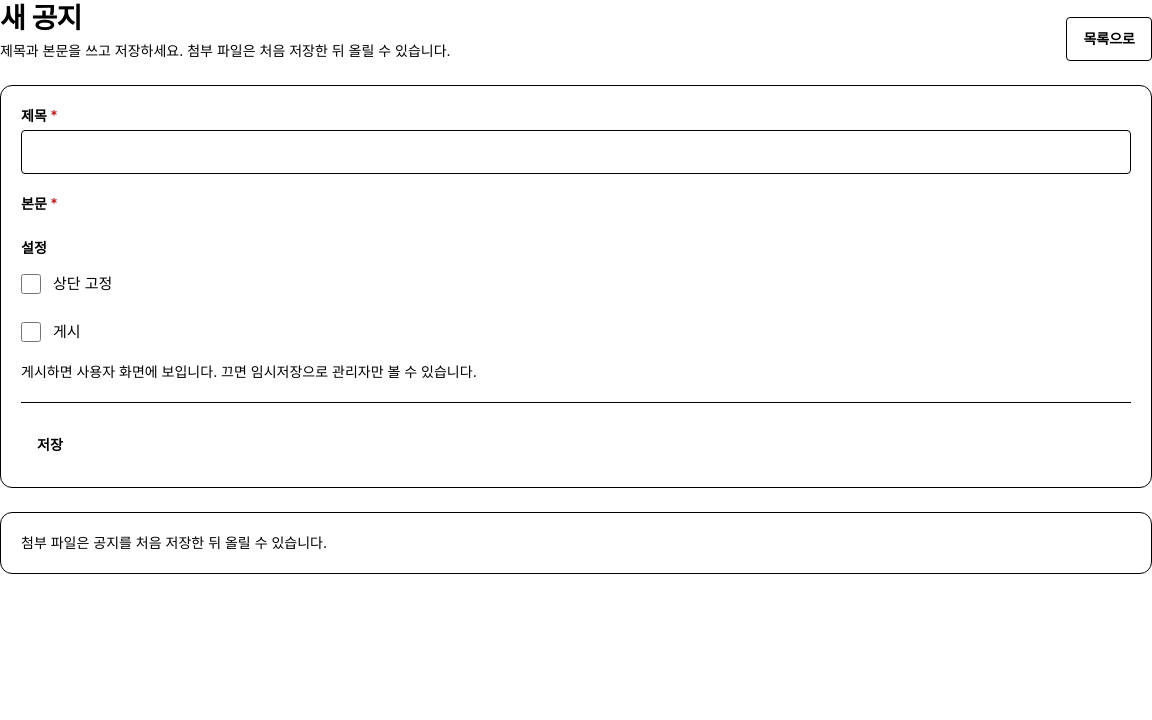
NoticeForm › 필수값이 비면 액션을 부르지 않고 필드 오류를 보여 준다
The image size is (1152, 720).
Click the button "저장": (50, 445) [21, 423, 79, 467]
(page scrolled)
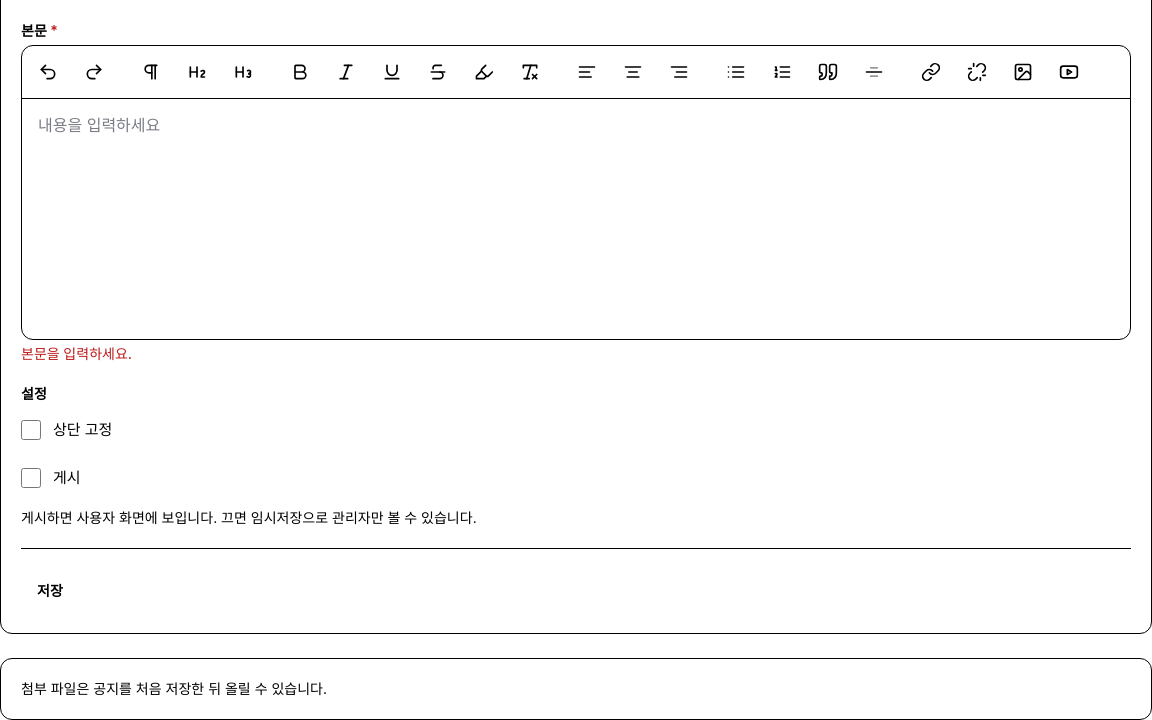
Check: the text "첨부 파일은 공지를 처음 저장한 뒤 올릴 수 있습니다." is shown, box [0, 658, 1151, 719]
Check: the text "본문을 입력하세요." is shown, box [21, 345, 132, 362]
